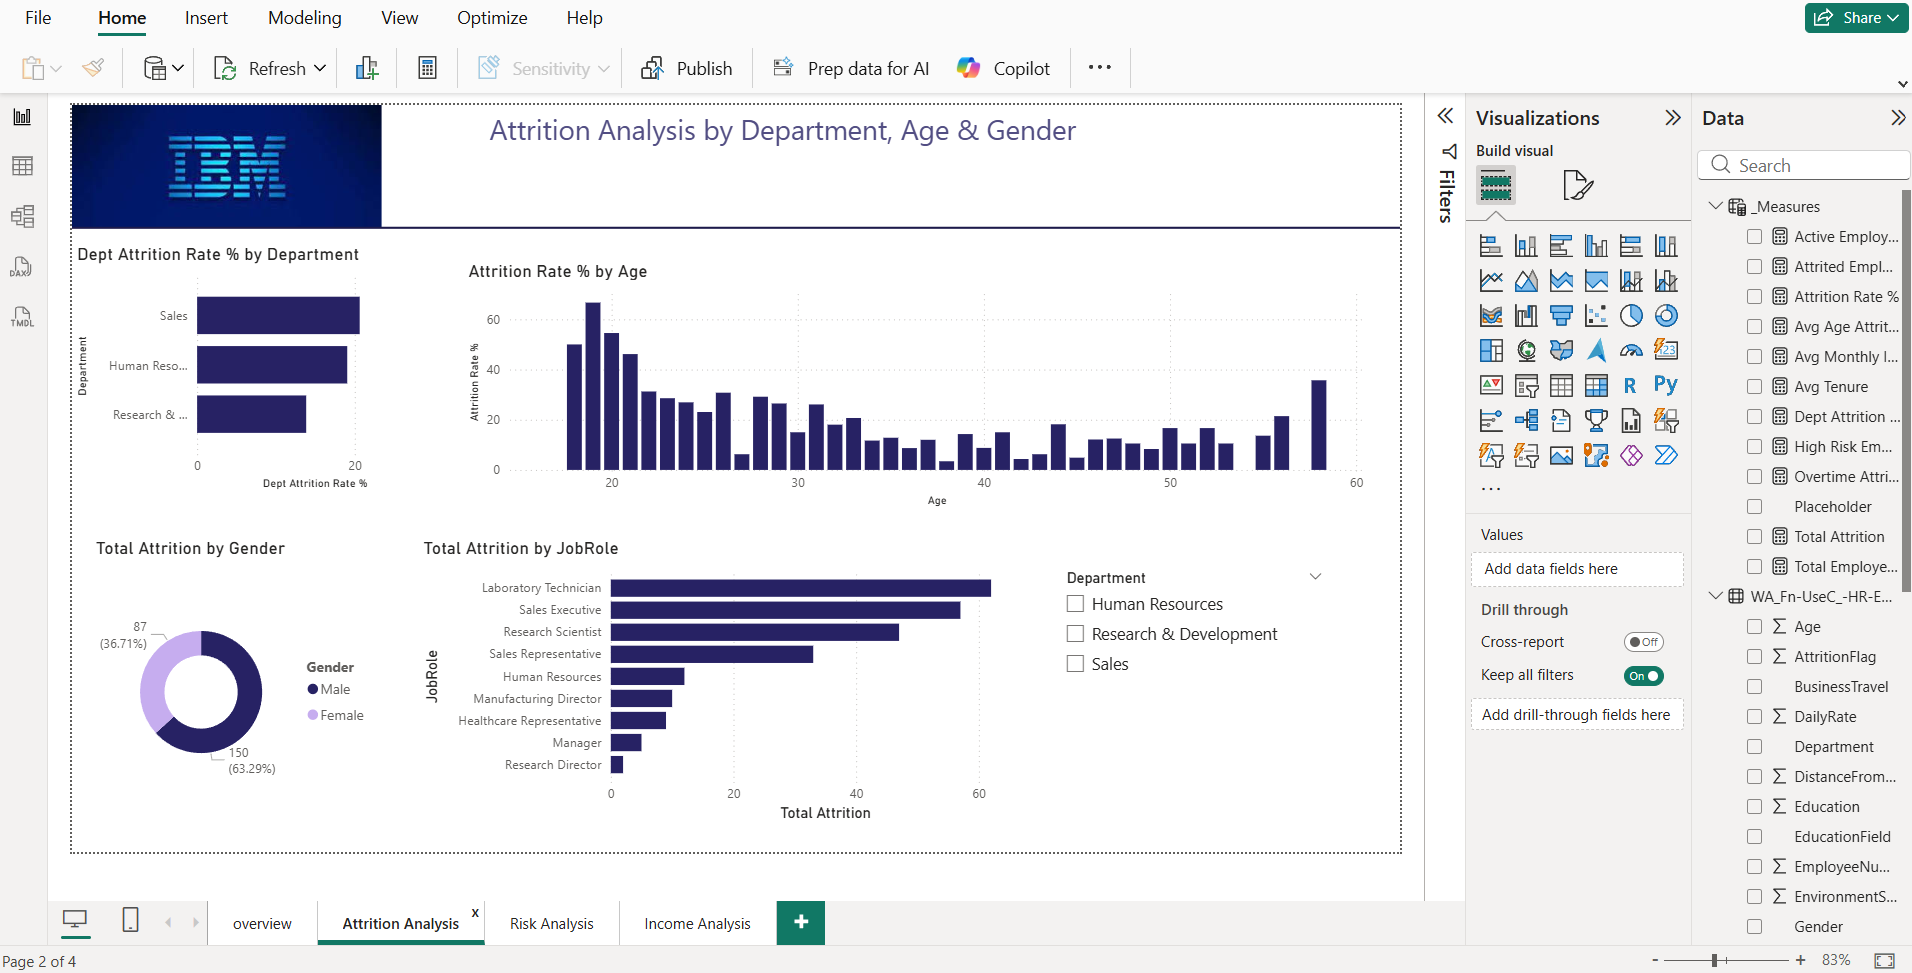

Layout of this report page (visuals, bound fields, positions):
{"tool":"powerbi","page":{"name":"Attrition Analysis","canvas":[1280,720],"ordinal":1},"visuals":[{"type":"clusteredBarChart","fields":{"Category":["WA_Fn-UseC_-HR-Employee-Attrition.Department"],"Y":["_Measures.Dept Attrition Rate %"]},"box":[0,134.1,360.7,242.3],"z":0},{"type":"clusteredColumnChart","fields":{"Category":["WA_Fn-UseC_-HR-Employee-Attrition.Age"],"Y":["_Measures.Attrition Rate %"]},"box":[377.6,149.9,873.5,242.3],"z":1000},{"type":"donutChart","fields":{"Category":["WA_Fn-UseC_-HR-Employee-Attrition.Gender"],"Y":["_Measures.Total Attrition"]},"box":[18.6,416.3,279.1,279.1],"z":2000},{"type":"clusteredBarChart","fields":{"Category":["WA_Fn-UseC_-HR-Employee-Attrition.JobRole"],"Y":["_Measures.Total Attrition"]},"box":[333.7,416.3,611.6,279.1],"z":3000},{"type":"slicer","fields":{"Values":["WA_Fn-UseC_-HR-Employee-Attrition.Department"]},"box":[945.4,441.9,272.1,277.9],"z":4000},{"type":"textbox","box":[298.7,0,981.7,118.3],"z":5000},{"type":"image","box":[0,0,298.7,118.3],"z":6000},{"type":"shape","box":[0,0,1280.4,236.7],"z":7000}]}

Visuals, with their boxes on the page's 1280x720 design canvas (x1, y1, x2, y2). These are canvas units, not pixel positions in the 1912x973 screenshot, which may show the page scaled, cropped or inside an application window:
clusteredBarChart - WA_Fn-UseC_-HR-Employee-Attrition.Department x _Measures.Dept Attrition Rate %: x1=0, y1=134, x2=361, y2=376
clusteredColumnChart - WA_Fn-UseC_-HR-Employee-Attrition.Age x _Measures.Attrition Rate %: x1=378, y1=150, x2=1251, y2=392
donutChart - WA_Fn-UseC_-HR-Employee-Attrition.Gender x _Measures.Total Attrition: x1=19, y1=416, x2=298, y2=695
clusteredBarChart - WA_Fn-UseC_-HR-Employee-Attrition.JobRole x _Measures.Total Attrition: x1=334, y1=416, x2=945, y2=695
slicer - WA_Fn-UseC_-HR-Employee-Attrition.Department: x1=945, y1=442, x2=1218, y2=720
textbox: x1=299, y1=0, x2=1280, y2=118
image: x1=0, y1=0, x2=299, y2=118
shape: x1=0, y1=0, x2=1280, y2=237
